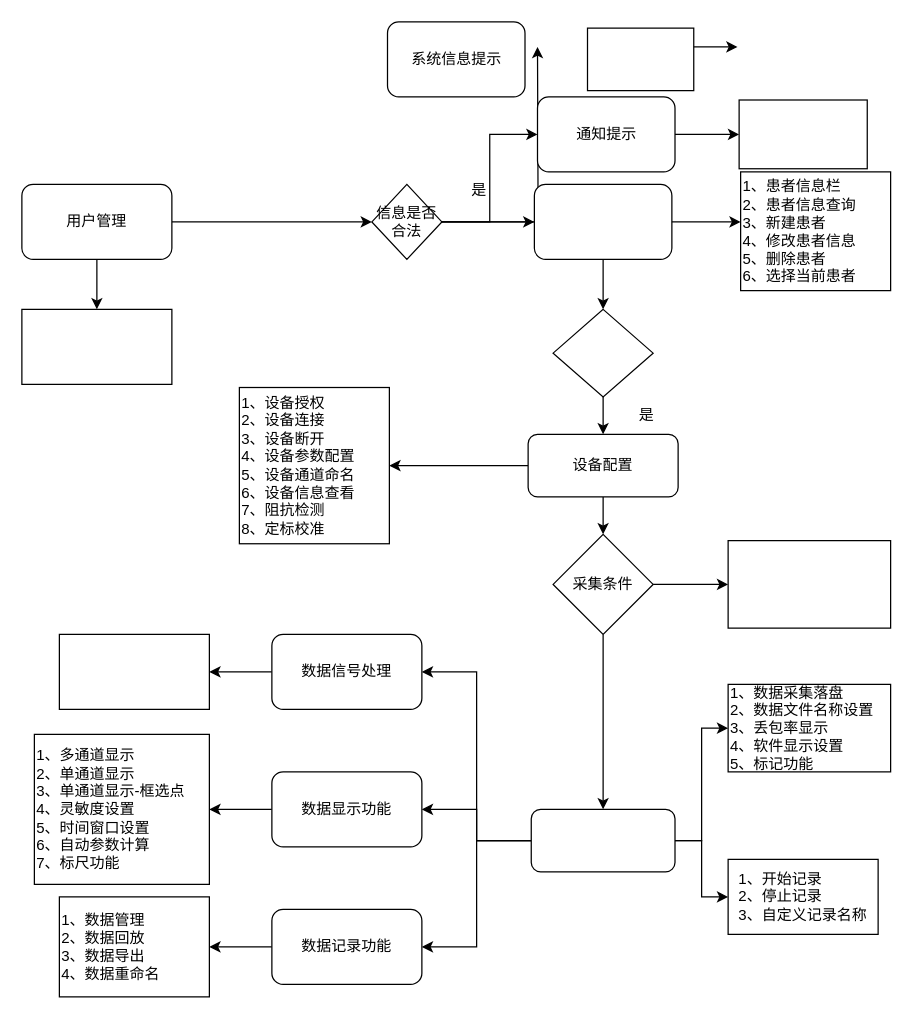
Image size: 913x1019. Some labels were removed from this diagram. Each missing label, with the box of its shape:
1、低电量提示 2、设备断连提示: (738, 99, 867, 169)
1、工频滤波 2、数据滤波器 3、实时频谱分析: (58, 633, 209, 709)
1、登录功能 2、登出功能 3、修改用户名密码 4、忘记密码: (21, 308, 172, 384)
1、设备连接 2、设备具备采集功能: (727, 539, 891, 628)
1、软件信息 2、公司信息: (586, 27, 694, 91)
患者管理: (533, 183, 672, 259)
数据采集功能: (530, 808, 675, 872)
是否设置当前患者: (552, 308, 653, 397)
